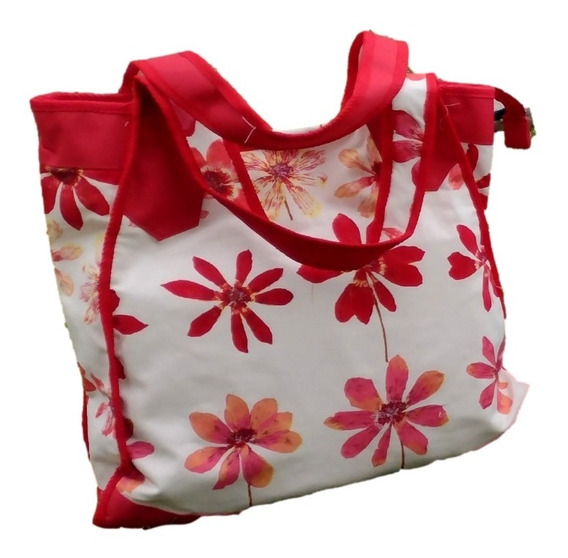cartera: (29, 30, 537, 529)
